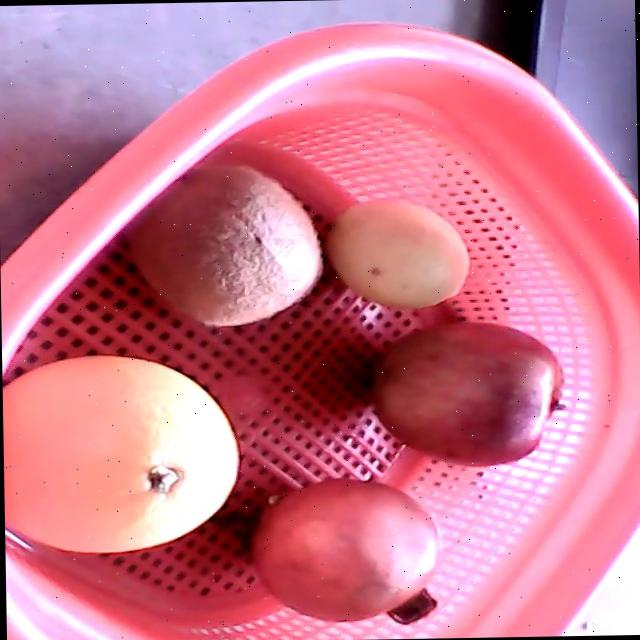apple: (370, 320, 564, 467)
kiwi: (120, 166, 319, 327)
lemon: (322, 199, 468, 308)
orange: (2, 354, 236, 552)
pomegranate: (248, 479, 438, 624)
